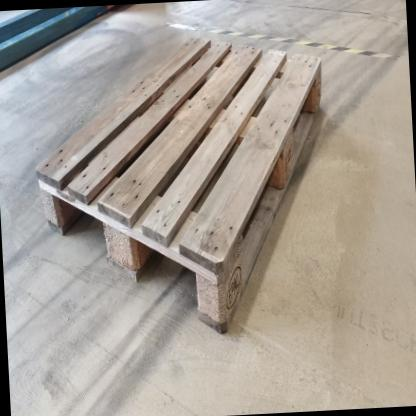BoxFace: (34, 29, 327, 339)
